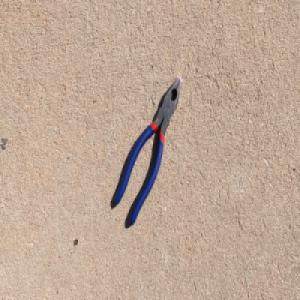Pliers: (112, 73, 182, 229)
